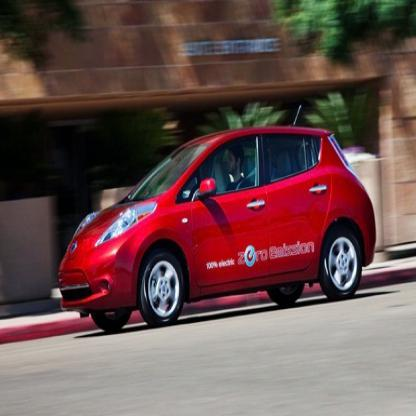Vehicle: (56, 106, 377, 334)
